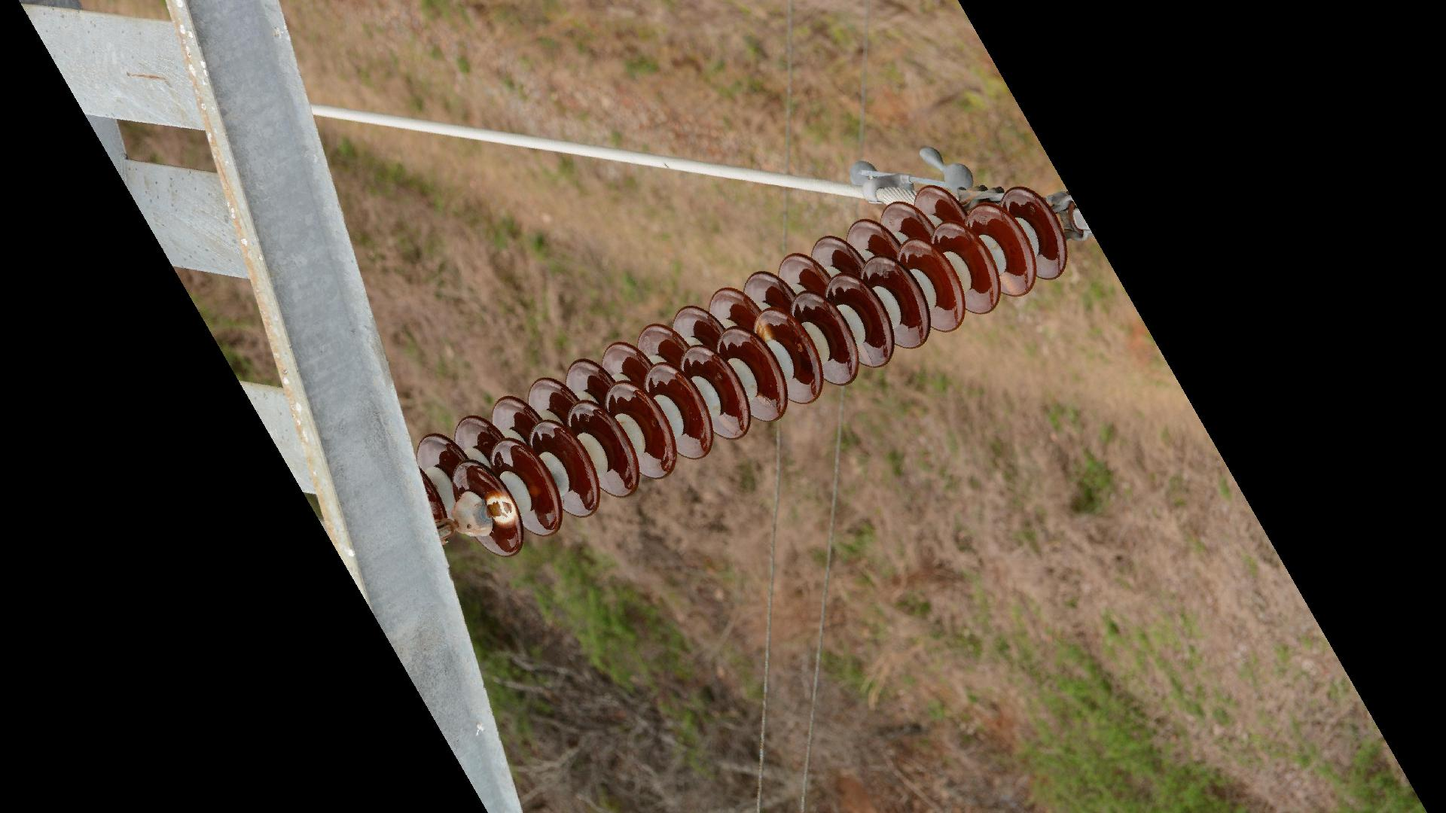insulator: (413, 177, 1075, 564)
insulator_flashover: (484, 490, 519, 528), (752, 314, 775, 343), (998, 272, 1022, 297)
